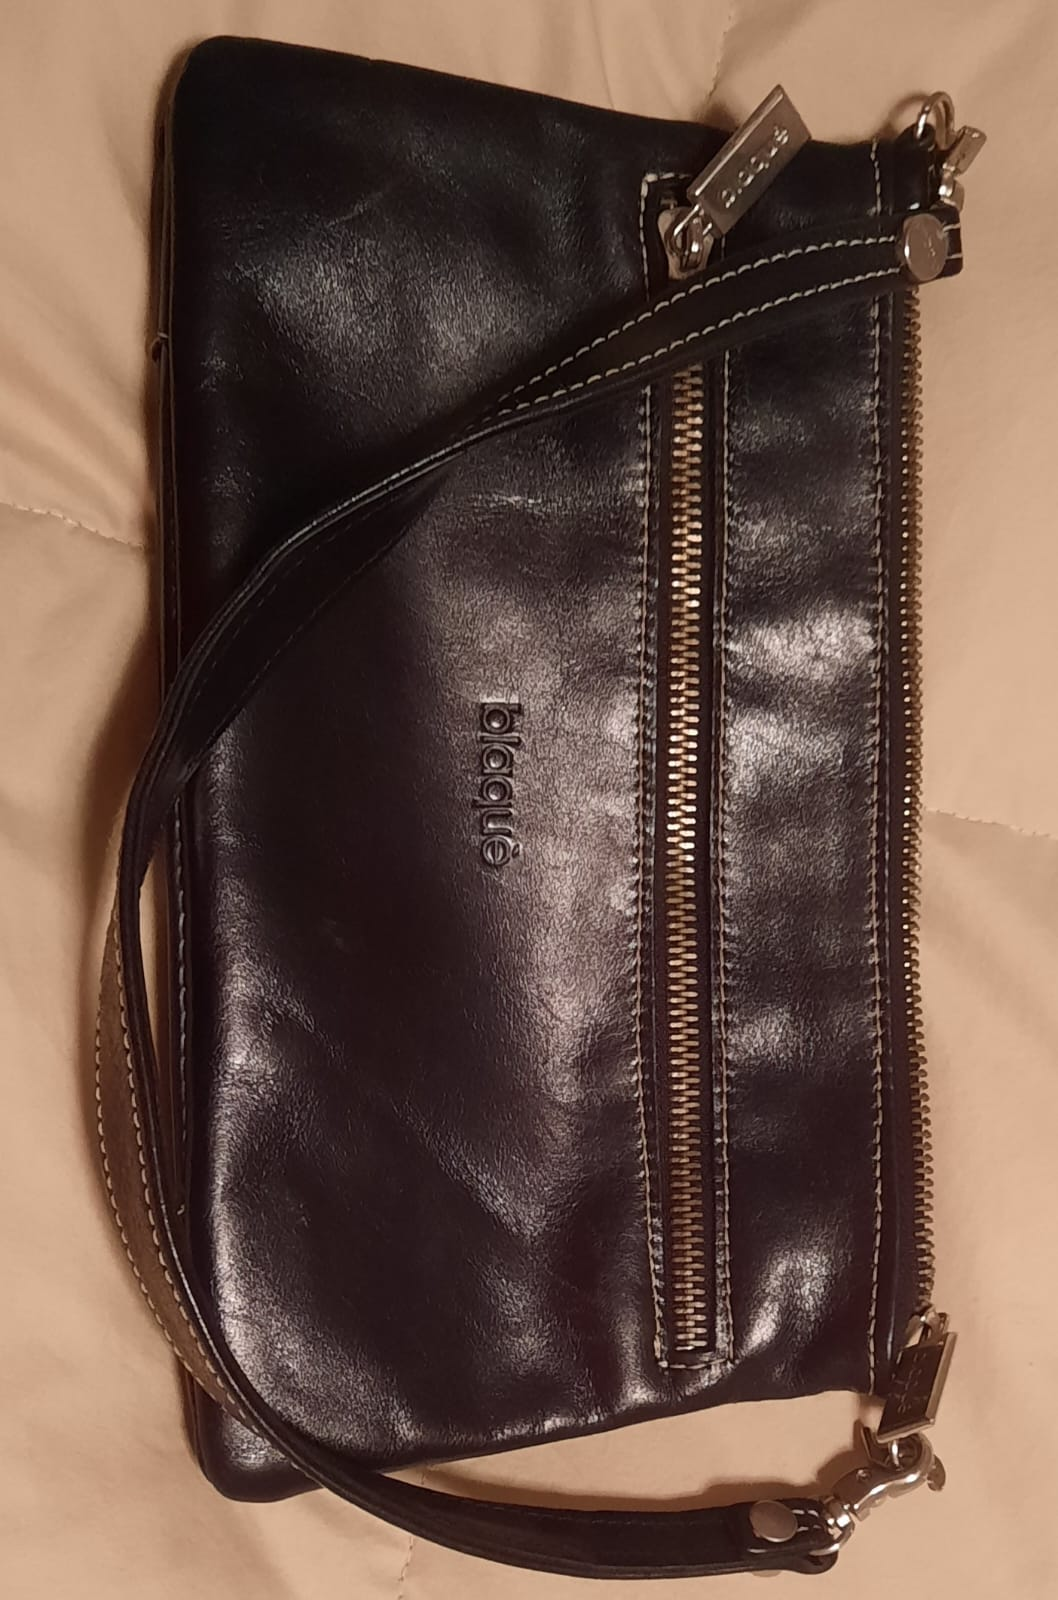cartera: (78, 20, 979, 1576)
cuero: (277, 236, 642, 1020)
